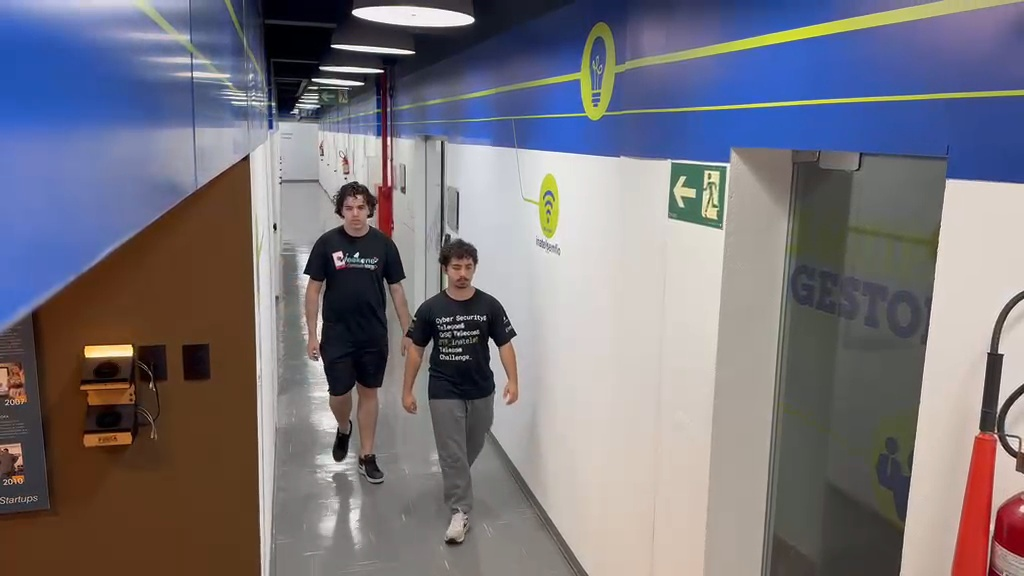person: (401, 237, 520, 545), (301, 182, 412, 482)
